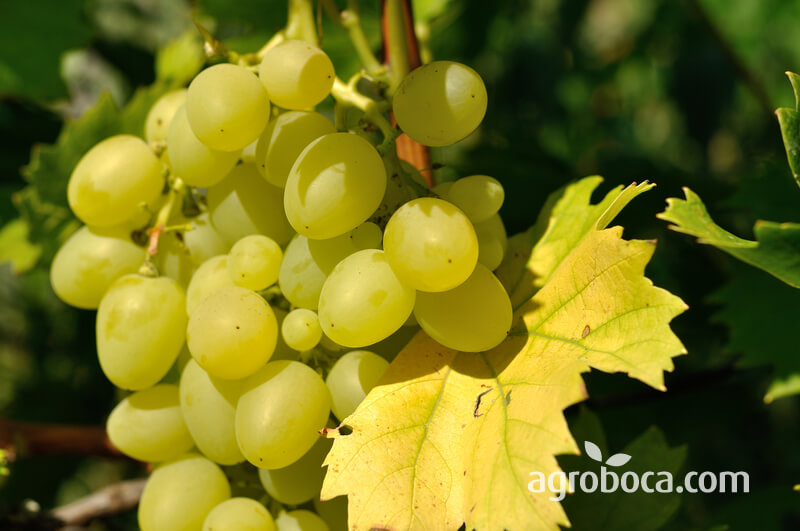Green grapes: (41, 15, 511, 531)
